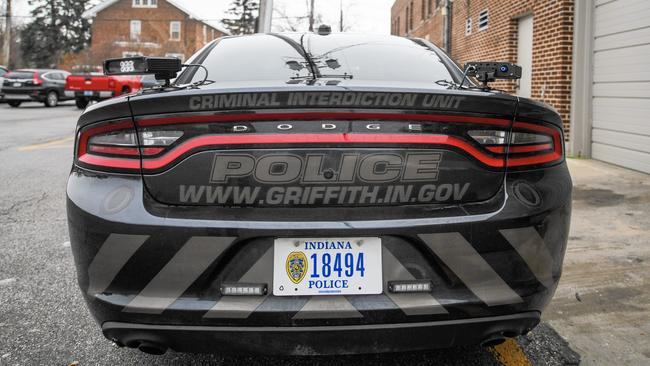license plate: (271, 235, 382, 297)
